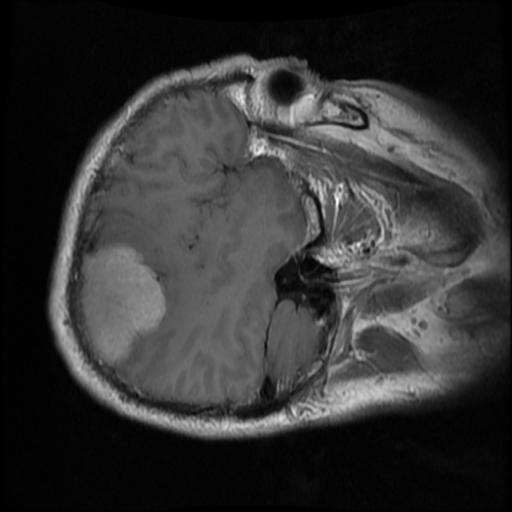meningioma: (76, 240, 164, 371)
